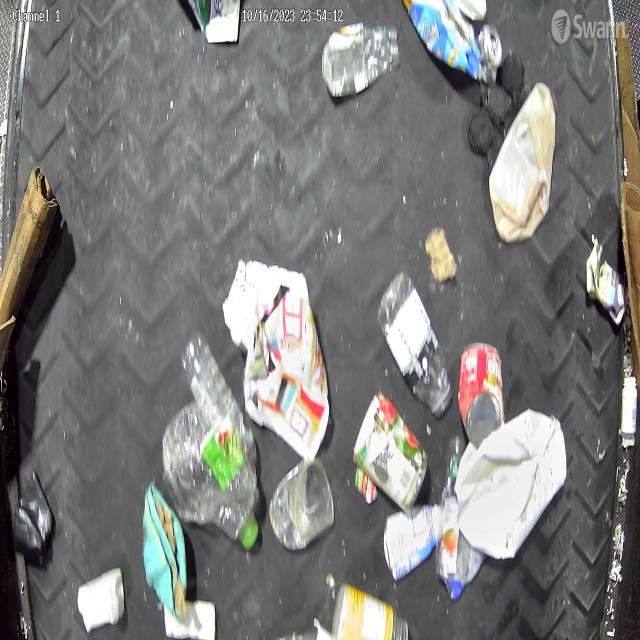can: (352, 389, 429, 511), (456, 338, 506, 448), (476, 20, 504, 80)
milk_jug: (457, 408, 570, 564), (489, 81, 556, 243)
plastic_bottle: (163, 399, 260, 549), (378, 269, 452, 416), (180, 333, 257, 464), (323, 22, 402, 99)
